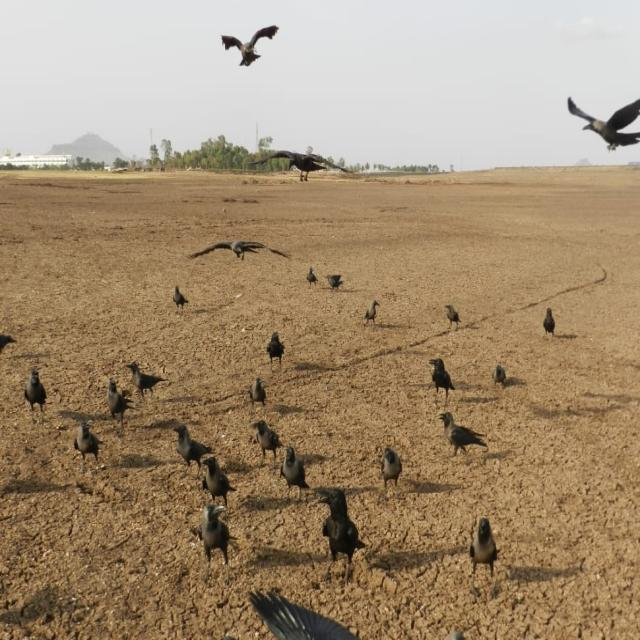bird: (247, 593, 365, 640), (564, 88, 640, 159), (254, 146, 354, 194), (318, 484, 366, 579), (183, 234, 292, 267), (221, 26, 282, 70), (193, 506, 233, 569), (438, 415, 488, 454), (470, 516, 498, 581), (282, 447, 318, 495), (172, 426, 214, 467), (202, 463, 236, 512), (252, 421, 284, 466), (128, 363, 166, 397), (72, 421, 101, 461), (108, 387, 137, 426), (27, 372, 49, 419), (382, 445, 404, 492), (431, 360, 456, 398), (493, 364, 524, 392), (267, 332, 285, 367), (1, 325, 16, 363), (252, 376, 268, 406), (173, 285, 189, 309), (446, 305, 462, 327), (365, 300, 380, 323), (543, 308, 556, 334), (329, 273, 345, 290), (306, 267, 318, 286)
